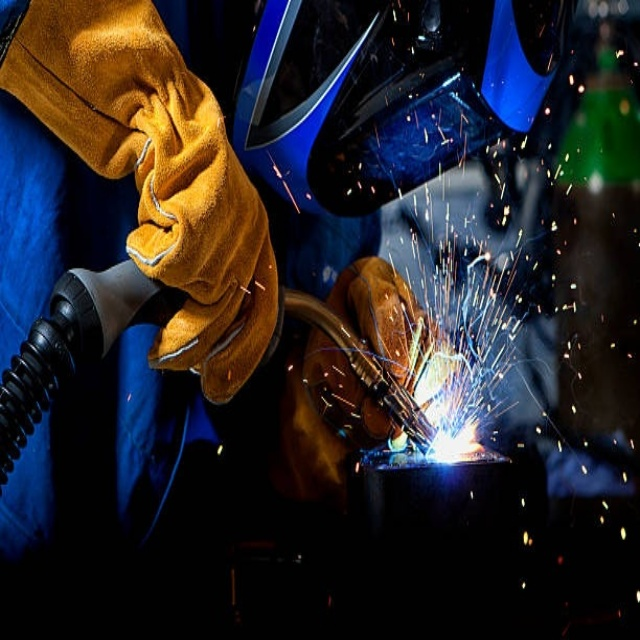Guantes: (3, 1, 282, 407), (284, 256, 435, 485)
